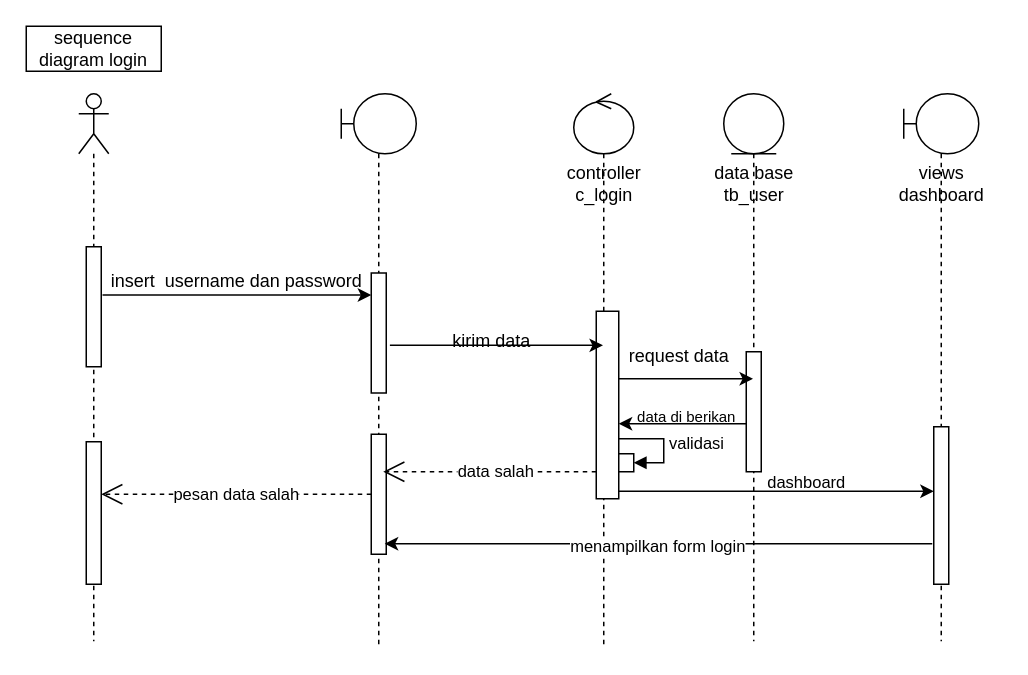
Some shapes in this 1028 by 675 pixel diagram are drawn without their labels. The shapes that lost their labels are listed below. From the top down, each one's centre as x and y in pixels, then its label:
point 93,366: user
point 378,370: views form login
